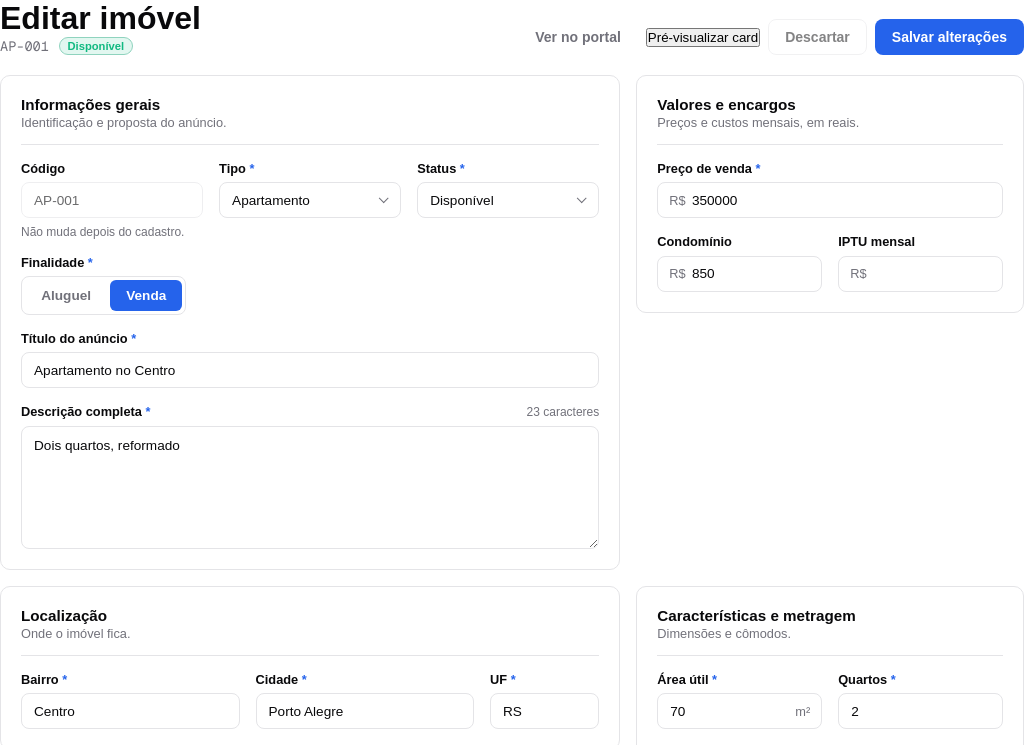
EdicaoDeImovel (TEC-400) › o erro do backend aparece inteiro, como um aviso so (D2 da TEC-333)
The width and height of the screenshot is (1024, 745).
Replace the text in the field labelled "Preço de venda" with "400000" at [830, 200], box [657,182,1003,218]
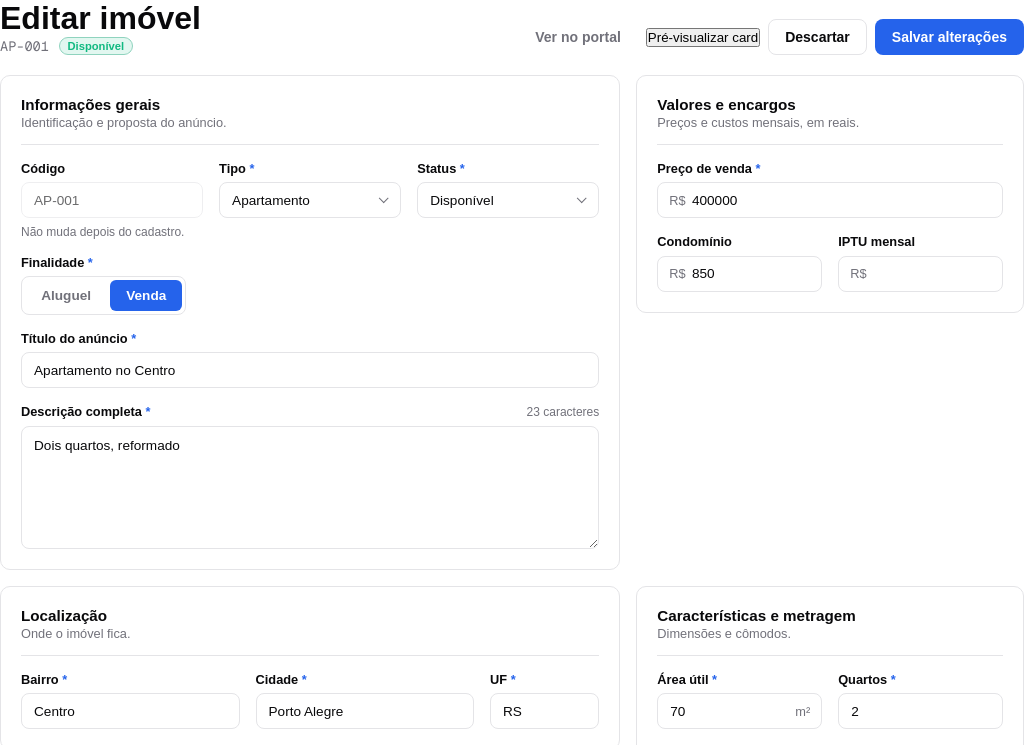
Click the button "Salvar alterações".
click(949, 37)  # box [875,19,1023,55]
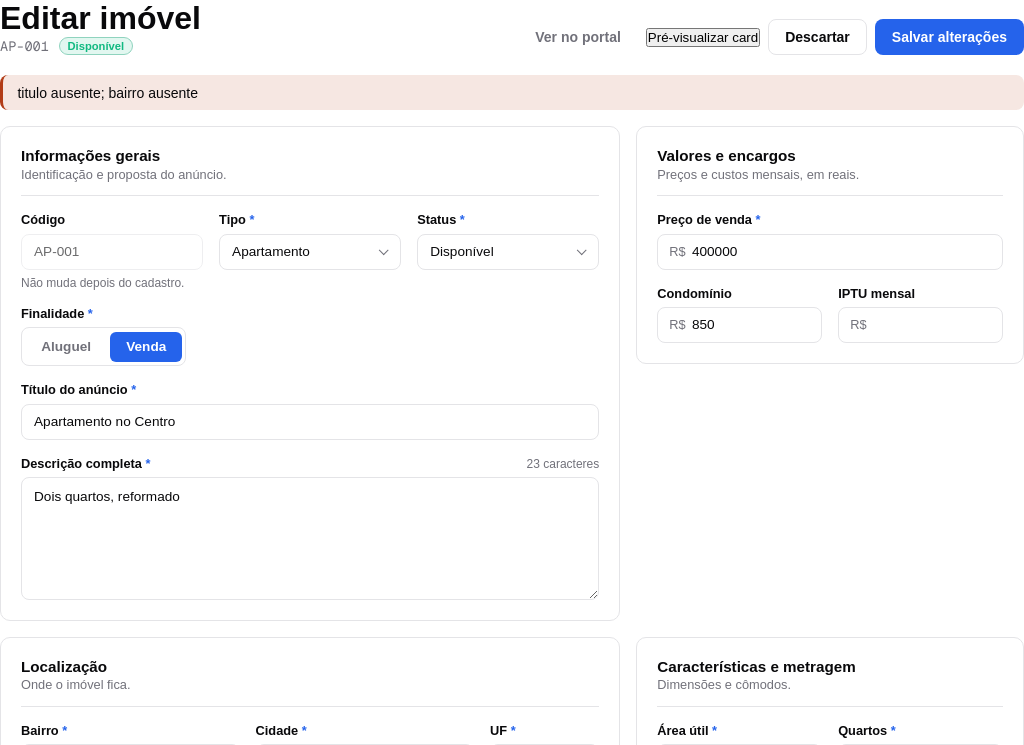
Expected: the message reads "titulo ausente; bairro ausente", [17,85,198,101]
